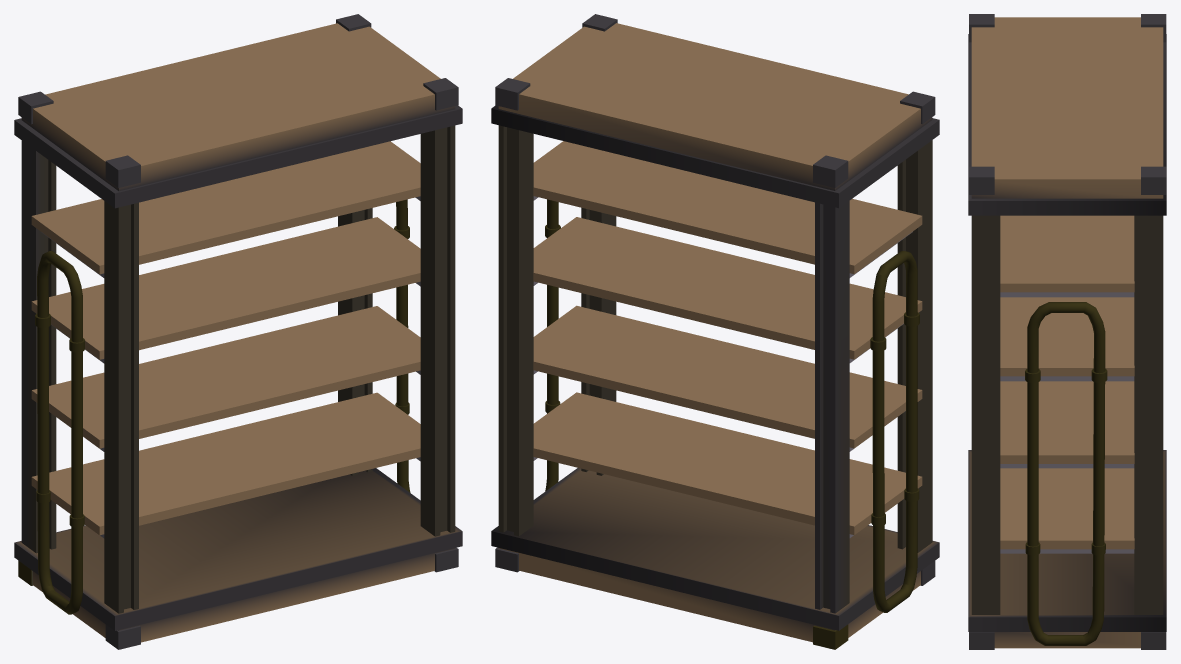
File: IndustrialShelvesTall.fbx
3 views of the same model, side by side, from view 1: azimuth 30°, elevation 25°; view 2: azimuth 150°, elevation 25°; view 3: azimuth 270°, elevation 25° (orthographic).
Visible parts, largest first — view 1: IndustrialShelvesTall; view 2: IndustrialShelvesTall; view 3: IndustrialShelvesTall.
Boxes of the visible parts, x1,y1,x2,y2 form: IndustrialShelvesTall: (14, 14, 462, 649); IndustrialShelvesTall: (491, 14, 939, 649); IndustrialShelvesTall: (968, 14, 1166, 649).
Bounding box in the file's own units: 443 × 544 × 207.
